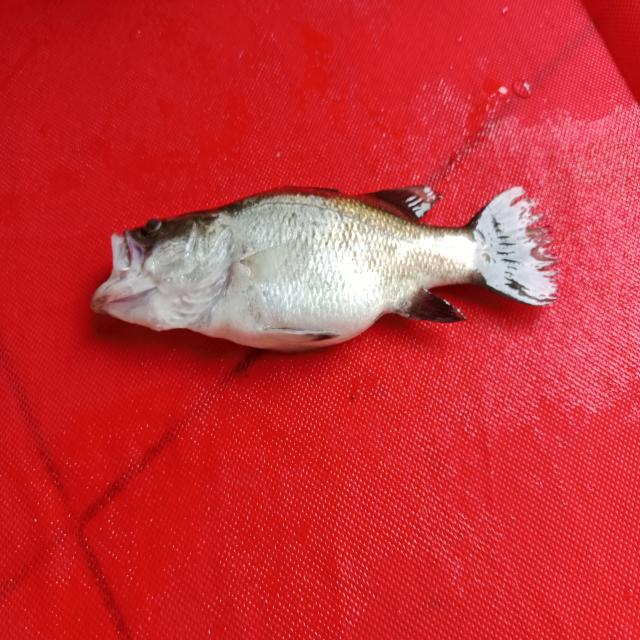ikan: (82, 164, 572, 373)
